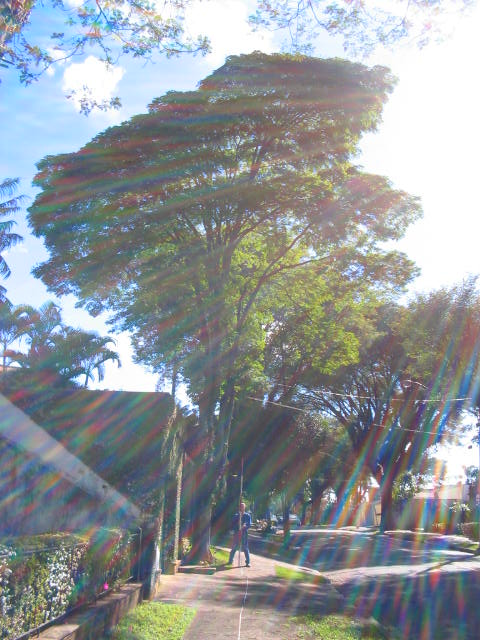crown: (33, 53, 421, 385)
stem: (184, 476, 223, 565)
stick: (233, 456, 248, 564)
tree: (28, 51, 424, 568)
